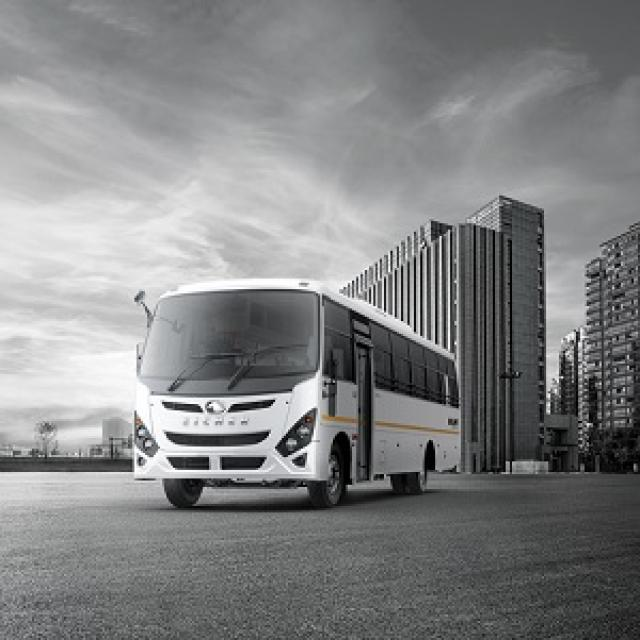bus: (134, 280, 460, 508)
